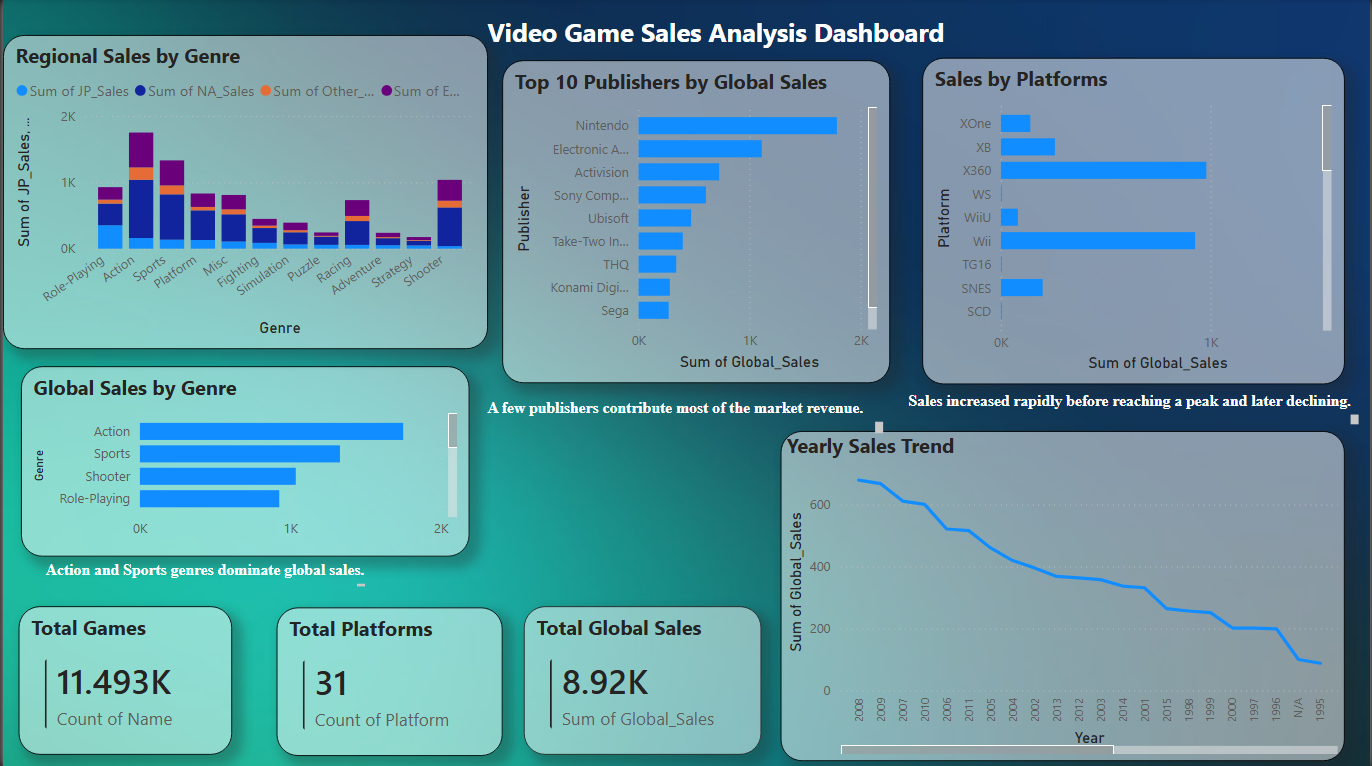

Layout of this report page (visuals, bound fields, positions):
{"tool":"powerbi","page":{"name":"Page 1","canvas":[1280,720],"ordinal":0},"visuals":[{"type":"textbox","title":"Video Game Sales Analysis Dashboard","box":[343.9,14.6,647.3,40.5],"z":0},{"type":"cardVisual","title":"Total Global Sales","fields":{"Data":["Sum(video_games_sales.Global_Sales)"]},"box":[487.7,568.6,222.5,139.3],"z":1000},{"type":"cardVisual","title":"Total Games","fields":{"Data":["Count(video_games_sales.Name)"]},"box":[14.6,568.6,200,139.3],"z":2000},{"type":"cardVisual","title":"Total Platforms","fields":{"Data":["Count(video_games_sales.Platform)"]},"box":[256.2,569.7,211.3,139.3],"z":3000},{"type":"clusteredBarChart","title":"Global Sales by Genre","fields":{"Category":["video_games_sales.Genre"],"Y":["Sum(video_games_sales.Global_Sales)"]},"box":[16.9,343.9,420.3,178.7],"z":4000},{"type":"clusteredBarChart","title":"Sales by Platforms","fields":{"Category":["video_games_sales.Platform"],"Y":["Sum(video_games_sales.Global_Sales)"]},"box":[860.8,55.1,395.6,305.7],"z":5000},{"type":"lineChart","title":"Yearly Sales Trend","fields":{"Category":["video_games_sales.Year"],"Y":["Sum(video_games_sales.Global_Sales)"]},"box":[728.2,404.6,528.2,309],"z":6000},{"type":"columnChart","title":"Regional Sales by Genre","fields":{"Category":["video_games_sales.Genre"],"Y":["Sum(video_games_sales.JP_Sales)","Sum(video_games_sales.NA_Sales)","Sum(video_games_sales.Other_Sales)","Sum(video_games_sales.EU_Sales)"]},"box":[0,33.7,454,294.4],"z":7000},{"type":"clusteredBarChart","title":"Top 10 Publishers by Global Sales","fields":{"Category":["video_games_sales.Publisher"],"Y":["Sum(video_games_sales.Global_Sales)"]},"box":[467.5,57.3,363,302.3],"z":8000},{"type":"textbox","title":"Action and Sports genres dominate global sales.","box":[34.8,525.9,309,29.2],"z":9000},{"type":"textbox","title":"Sales increased rapidly before reaching a peak and later declining.","box":[842.8,367.5,431.5,36],"z":10000},{"type":"textbox","title":"A few publishers contribute most of the market revenue.","box":[448.4,374.2,381,37.1],"z":11000}]}

Visuals, with their boxes in screenshot pixels (x1, y1, x2, y2), scaled from the page's 1280x720 canvas onto the 1372x766 screenshot:
"Video Game Sales Analysis Dashboard" textbox: 369,16,1062,59
"Total Global Sales" cardVisual: 523,605,761,753
"Total Games" cardVisual: 16,605,230,753
"Total Platforms" cardVisual: 275,606,501,754
"Global Sales by Genre" clusteredBarChart: 18,366,469,556
"Sales by Platforms" clusteredBarChart: 923,59,1347,384
"Yearly Sales Trend" lineChart: 781,430,1347,759
"Regional Sales by Genre" columnChart: 0,36,487,349
"Top 10 Publishers by Global Sales" clusteredBarChart: 501,61,890,383
"Action and Sports genres dominate global sales." textbox: 37,559,369,591
"Sales increased rapidly before reaching a peak and later declining." textbox: 903,391,1366,429
"A few publishers contribute most of the market revenue." textbox: 481,398,889,438
